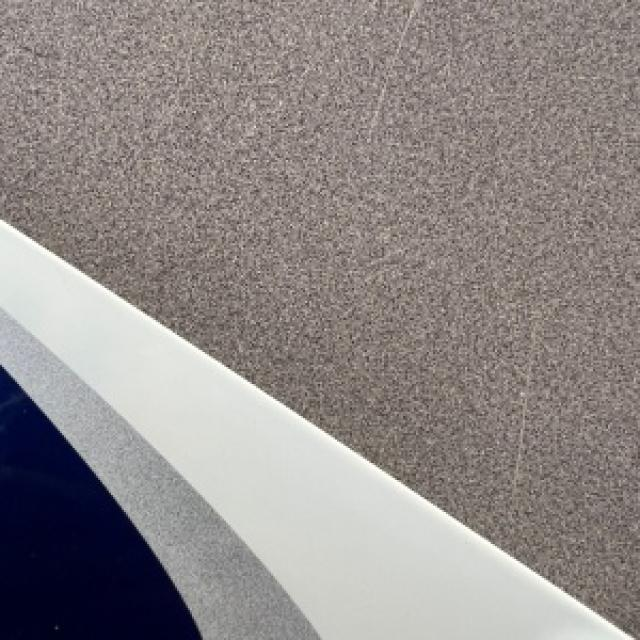healthy: (0, 0, 638, 638), (0, 222, 631, 638)
